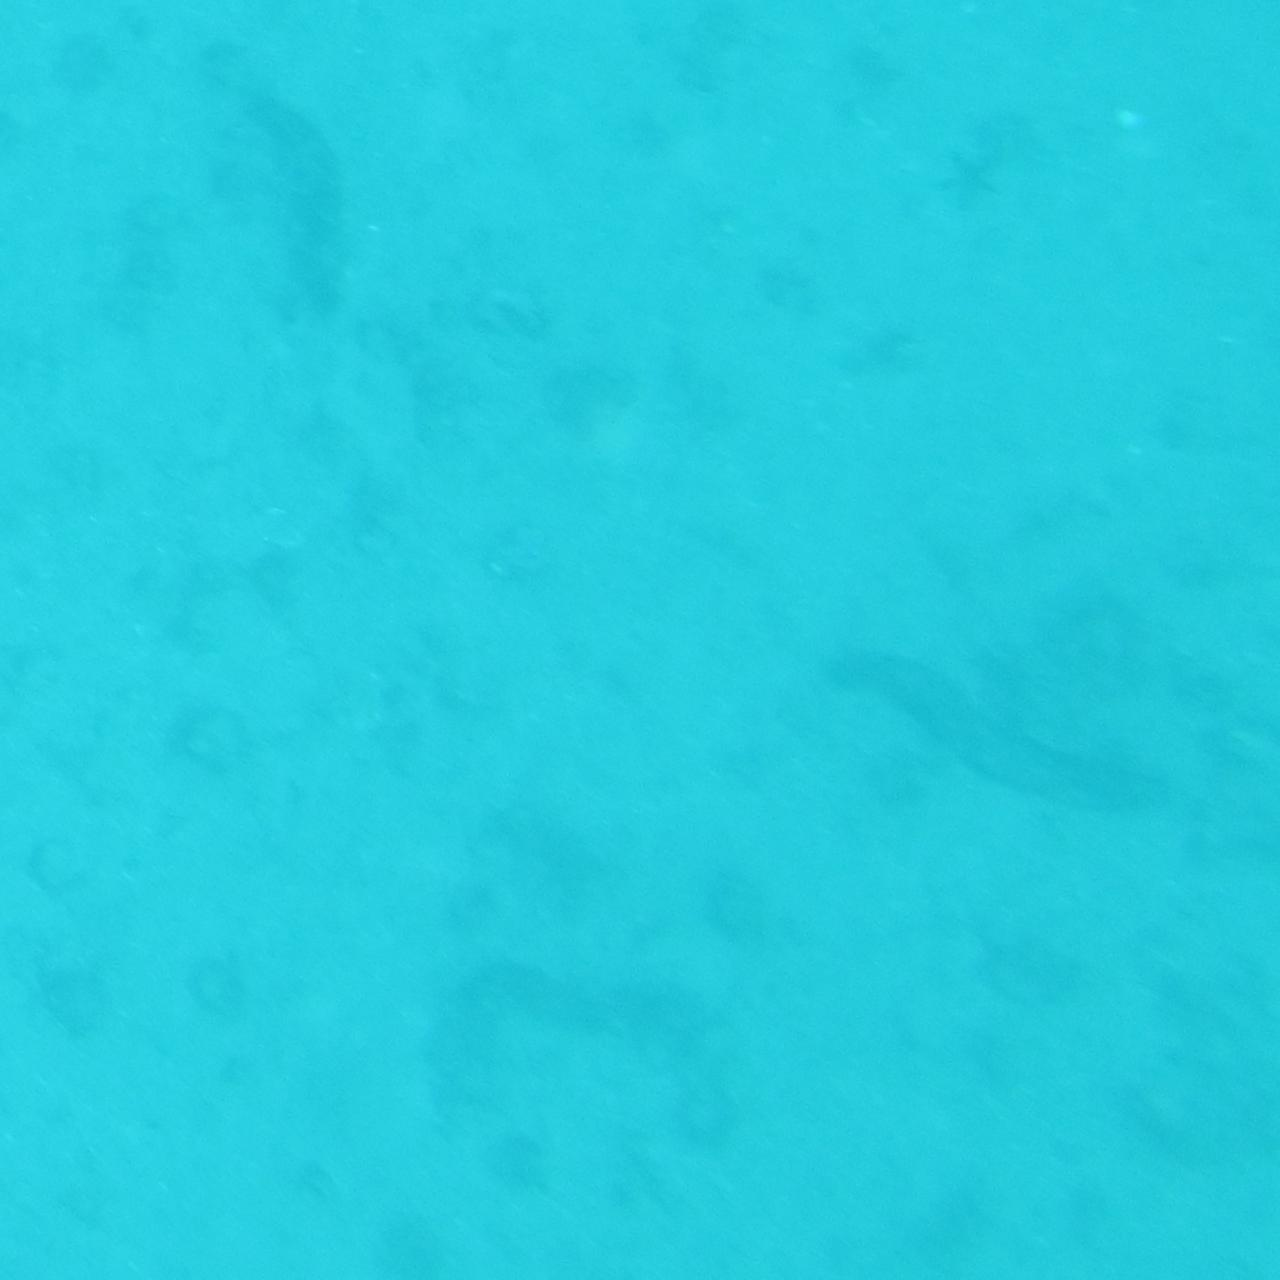Holothuria tubulosa: (395, 955, 772, 1169), (818, 636, 1172, 840), (209, 89, 363, 349)
